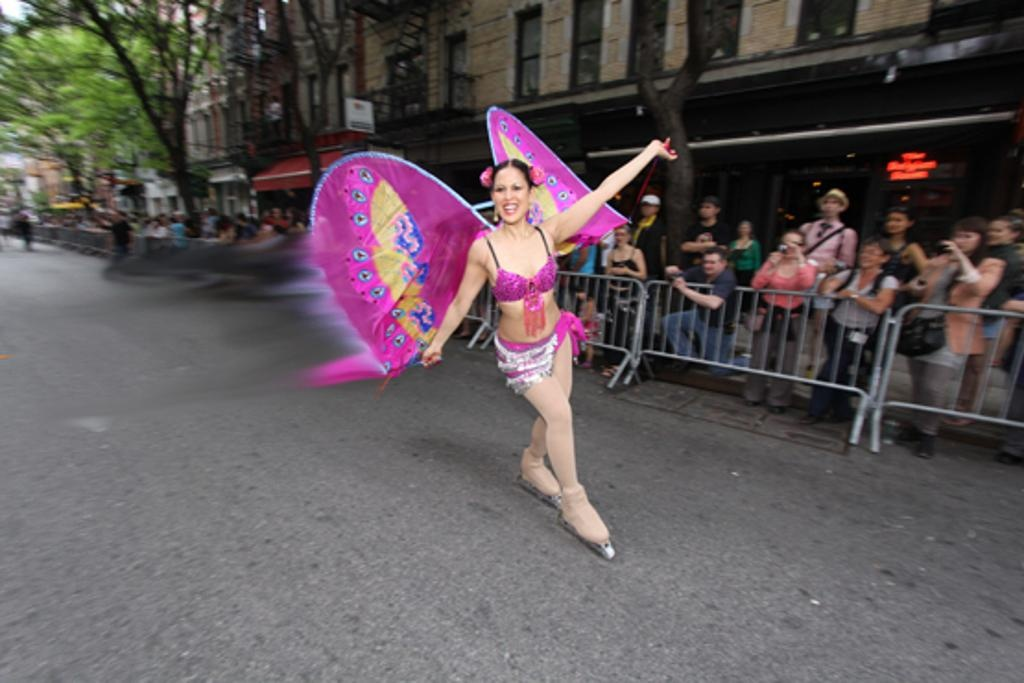human_face: (492, 173, 526, 223), (950, 228, 978, 254), (984, 219, 1008, 245), (884, 210, 906, 232), (778, 235, 798, 258), (858, 246, 880, 266), (821, 194, 839, 216), (698, 200, 716, 218), (702, 254, 718, 274), (640, 200, 654, 216), (737, 221, 749, 236), (614, 230, 626, 244)
